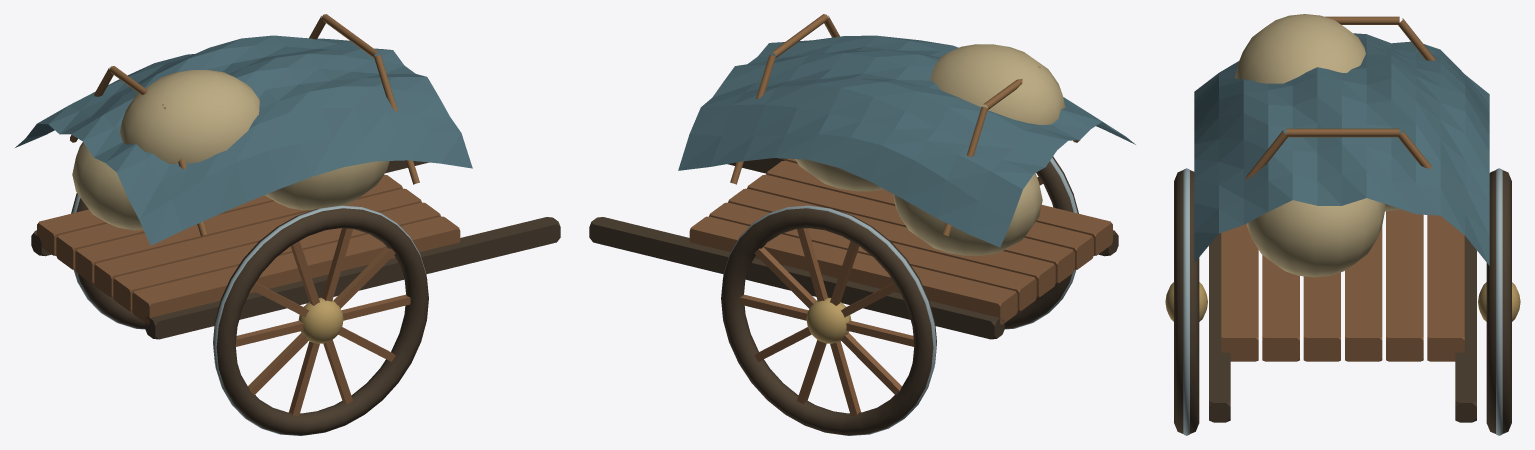
Rendered from night_cart.glb.
3 renders of one model, left to right at view 1: azimuth 30°, elevation 25°; view 2: azimuth 150°, elevation 25°; view 3: azimuth 270°, elevation 25°, orthographic. The views are drawn at different scales.
Parts seen in each view (by area): view 1: MerchantCart; view 2: MerchantCart; view 3: MerchantCart.
Boxes of the visible parts, x1,y1,x2,y2 form: MerchantCart: (15, 14, 560, 435); MerchantCart: (589, 14, 1135, 435); MerchantCart: (1165, 14, 1520, 435).
Size of the model in its own units: 1.1 by 0.843 by 0.75.
